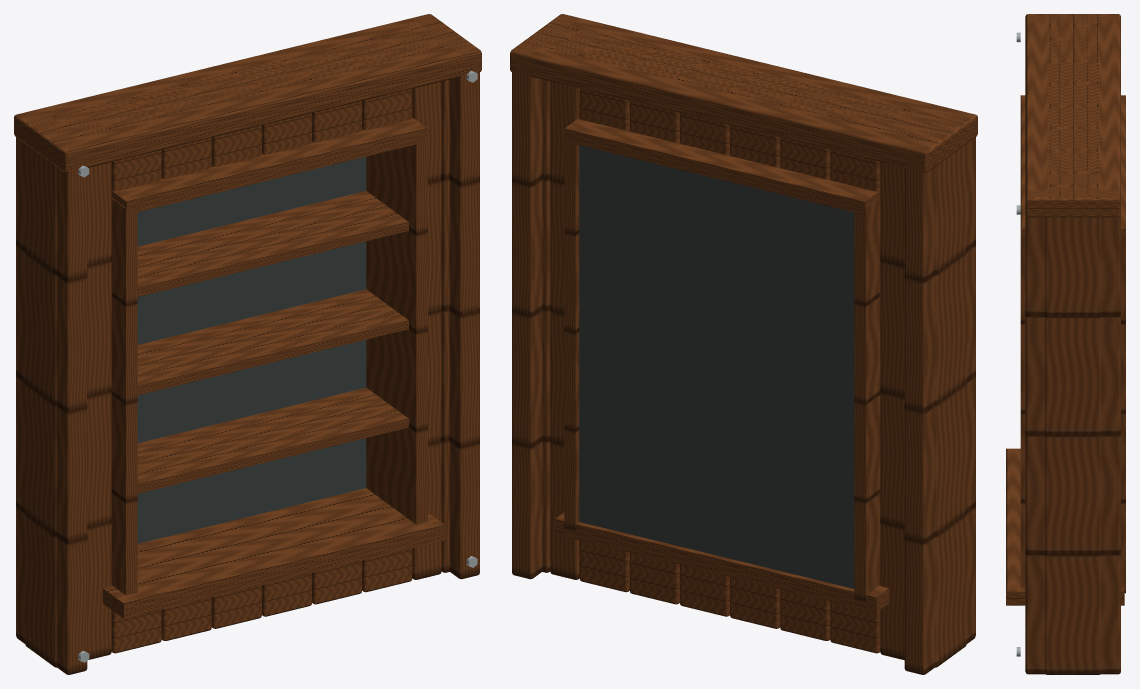
The model's file is modular-survival-base-builder-wall-inset-storage-ba589df8__24171.glb.
3 renders of one model, left to right at view 1: azimuth 30°, elevation 25°; view 2: azimuth 150°, elevation 25°; view 3: azimuth 270°, elevation 25°, orthographic. The views are drawn at different scales.
Visible parts, largest first — view 1: wall-inset-storage; view 2: wall-inset-storage; view 3: wall-inset-storage.
Part boxes in pixels (x1=…): wall-inset-storage: x1=14, y1=14, x2=481, y2=674; wall-inset-storage: x1=510, y1=14, x2=977, y2=674; wall-inset-storage: x1=1006, y1=14, x2=1125, y2=674.
Size of the model in its own units: 2 by 2.4 by 0.5458.
Materials: 3 (1 with a texture image).
